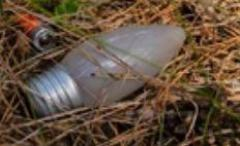lightbulb: (24, 23, 186, 117)
